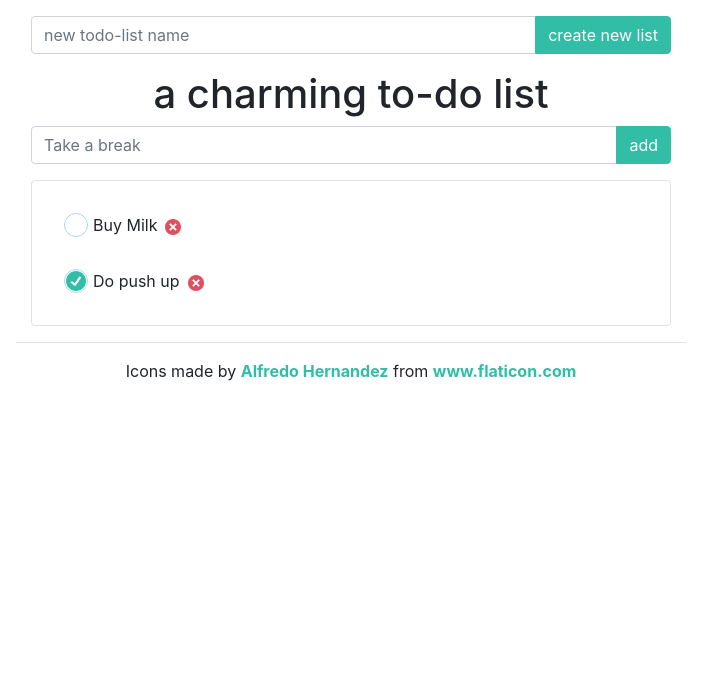
Test case: App › should add a TodoList without a title
Click the button "create new list" at (603, 35), box [535, 16, 671, 54]
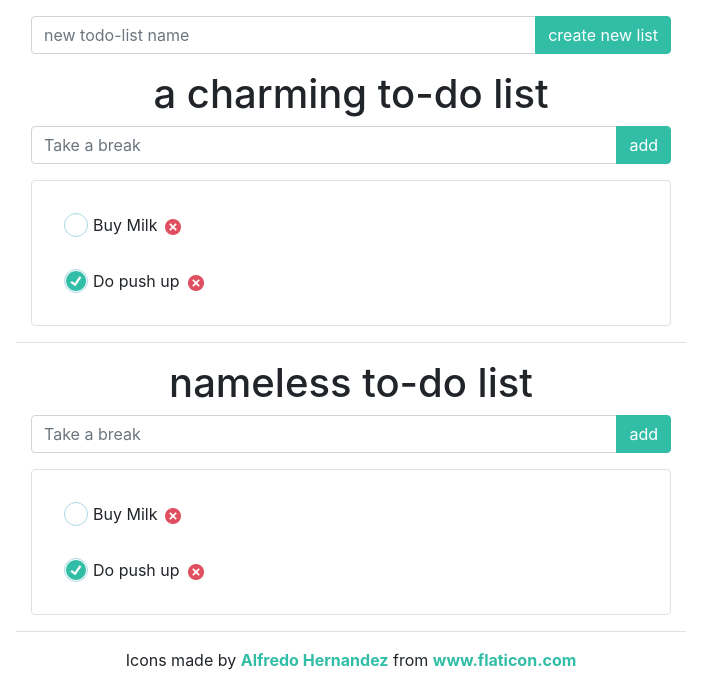
Expected: the number of elements named "todo-list" is 2, [16, 70, 686, 343]; [16, 359, 686, 632]
